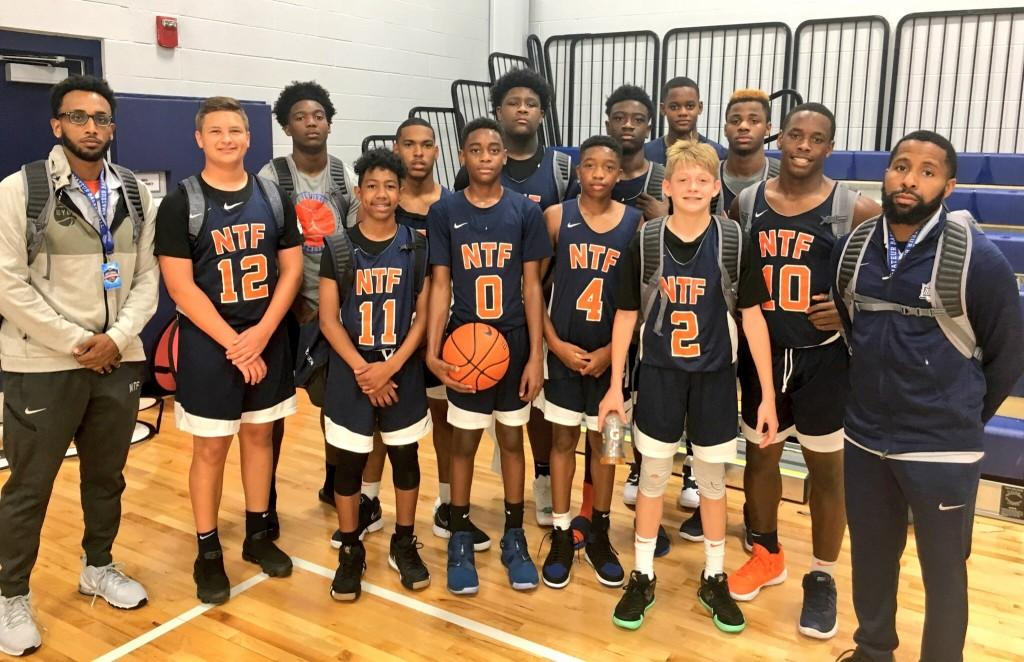basketball: (442, 324, 510, 395)
